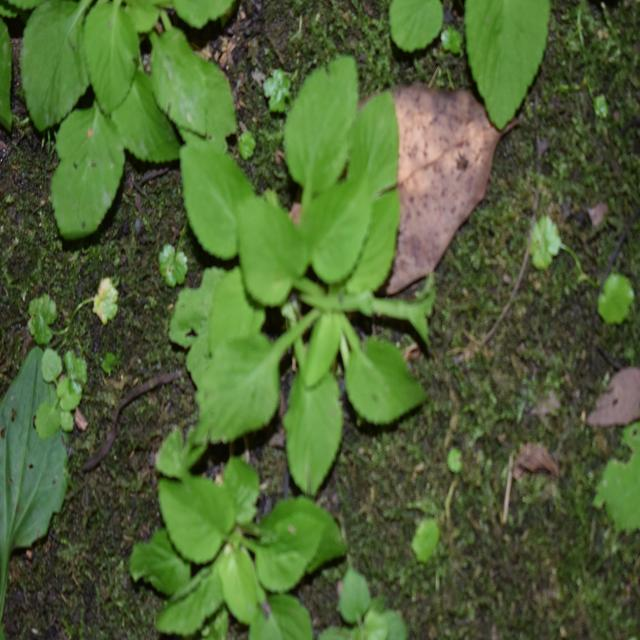Viola: (186, 99, 423, 468)
